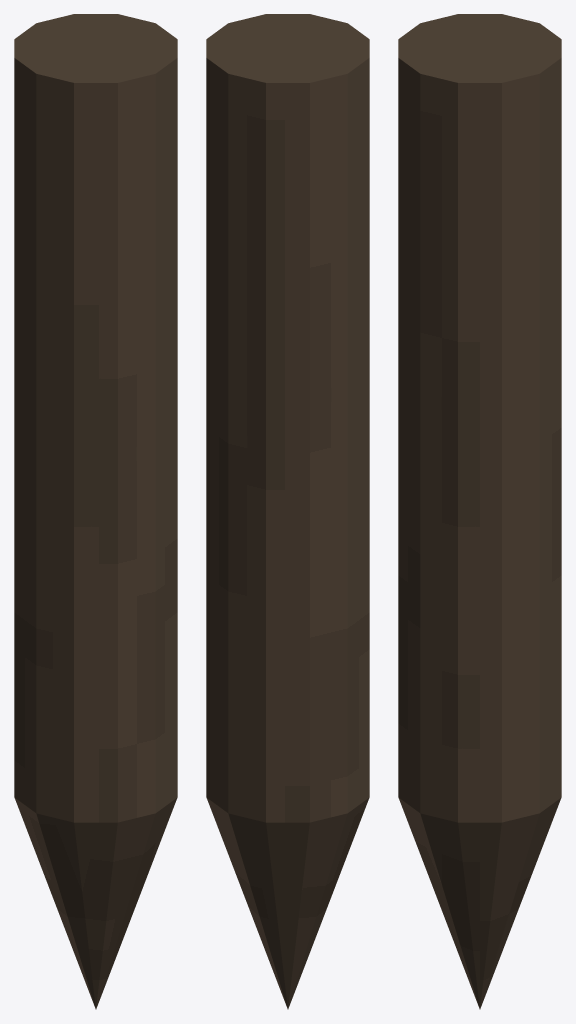
The model's file is Wooden Stake.fbx.
3 views of the same model, side by side, from view 1: azimuth 30°, elevation 25°; view 2: azimuth 150°, elevation 25°; view 3: azimuth 270°, elevation 25° (orthographic).
Visible parts, largest first — view 1: cylinder, cone; view 2: cylinder, cone; view 3: cylinder, cone.
Boxes of the visible parts, x1=… form: cylinder: x1=14, y1=14, x2=177, y2=822; cone: x1=14, y1=797, x2=177, y2=1009; cylinder: x1=206, y1=14, x2=369, y2=822; cone: x1=206, y1=797, x2=369, y2=1009; cylinder: x1=398, y1=14, x2=561, y2=822; cone: x1=398, y1=797, x2=561, y2=1009.
Size of the model in its own units: 12.5 by 81.25 by 12.5.
Materials: 2 (2 with a texture image).
